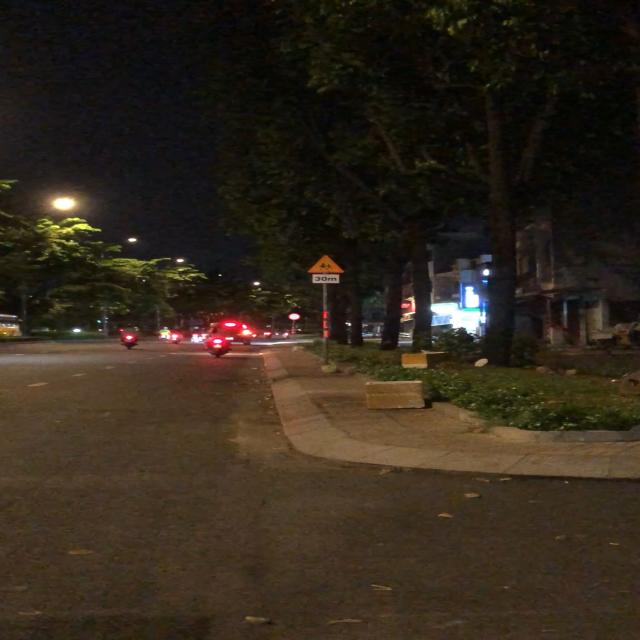Bien bao tre em: (306, 255, 346, 274)
